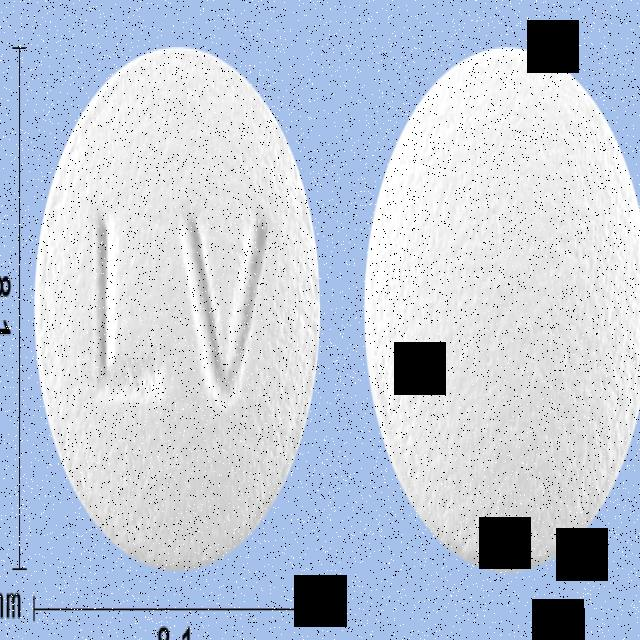Levobay: (30, 43, 326, 575)
